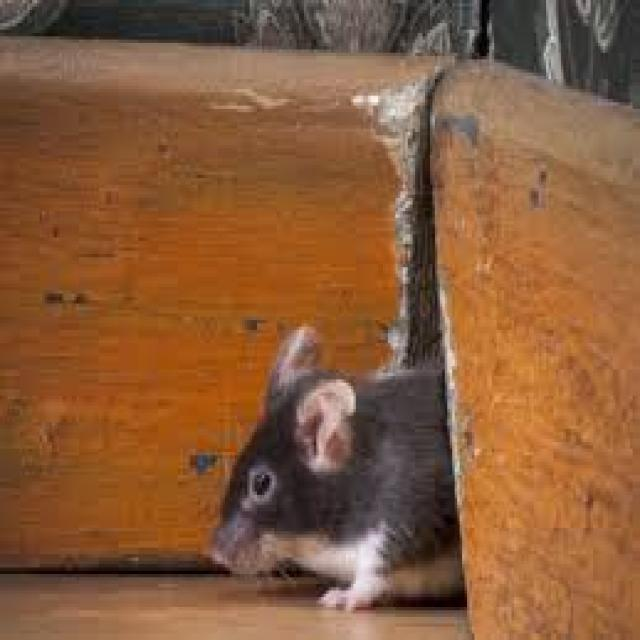Mouse: (207, 329, 471, 618)
